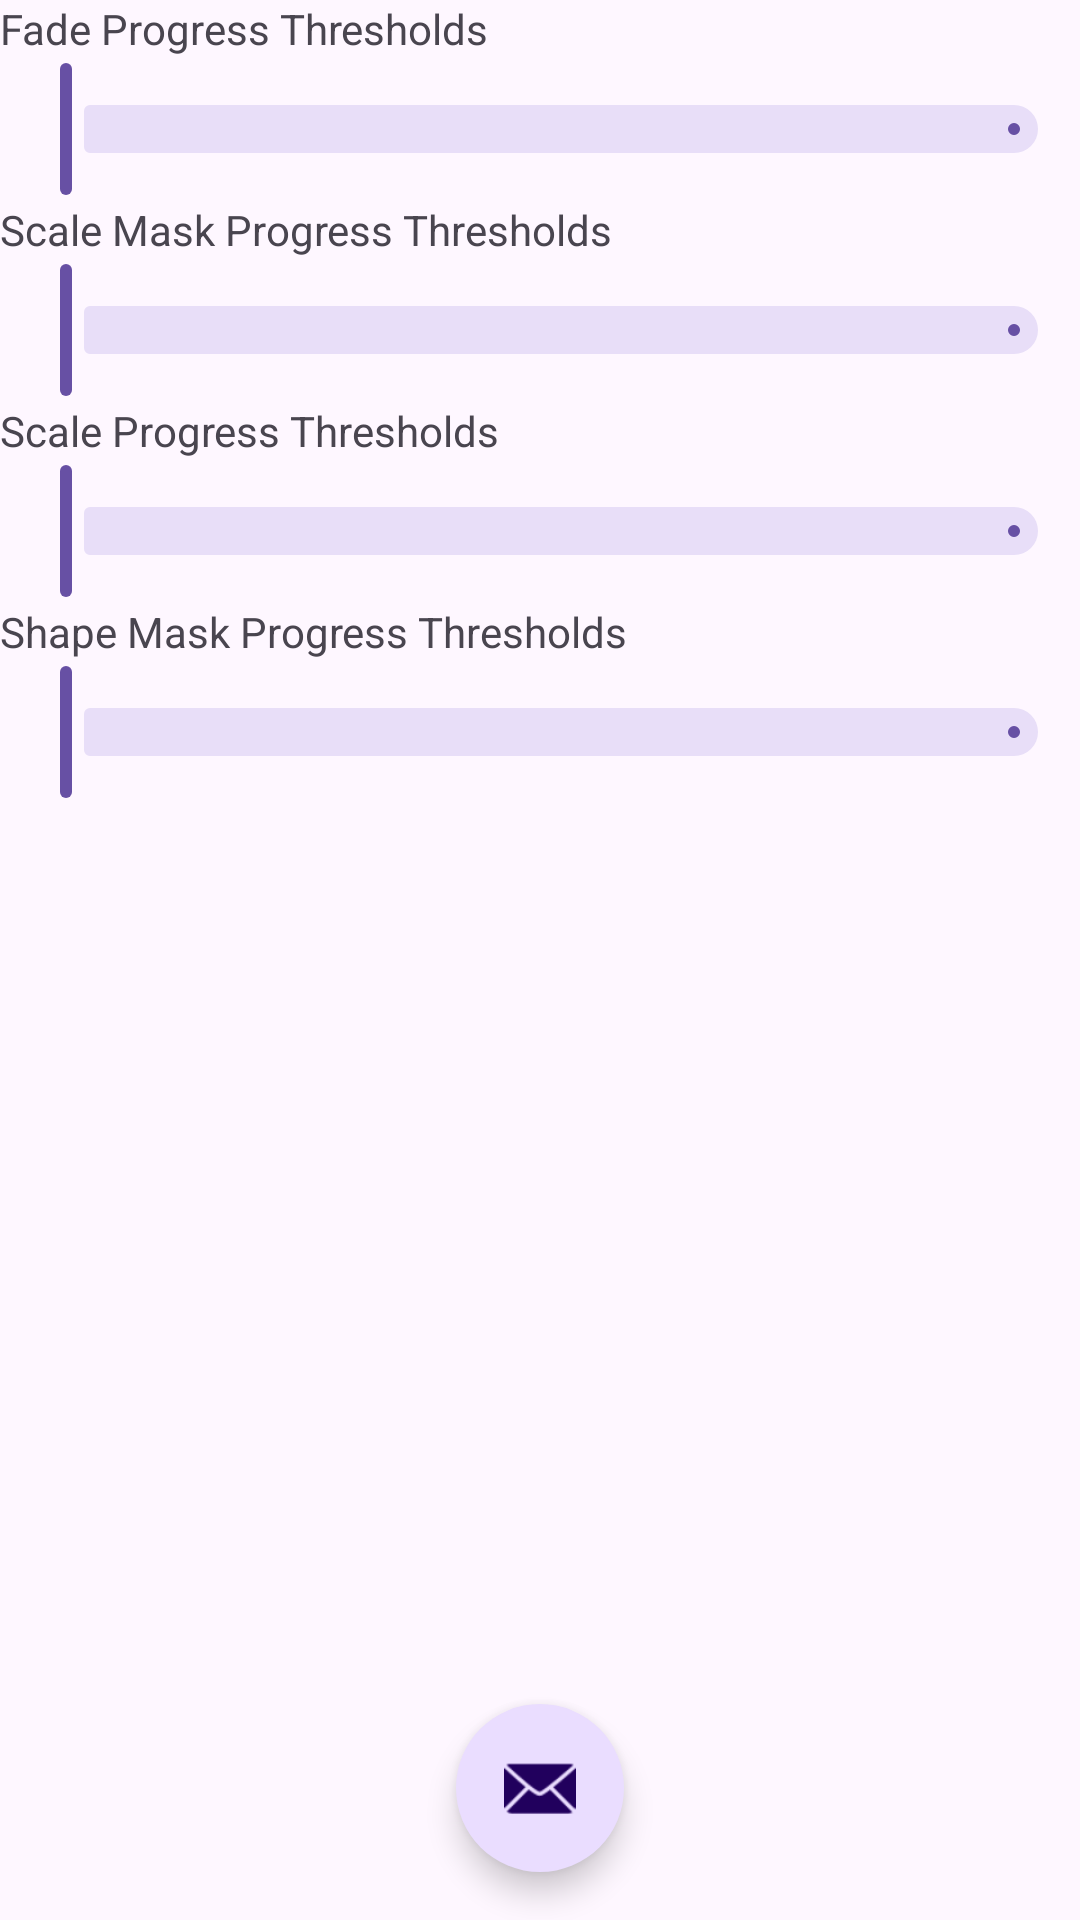

Screen size 1080x1920. Icon name, then its center in pixels as (x=x, y=y):
email: (x=540, y=1788)
